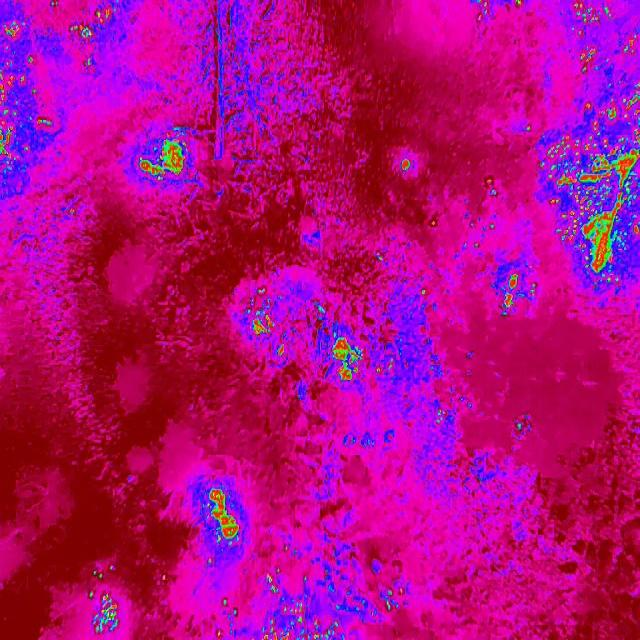fire: (549, 89, 640, 279), (205, 577, 398, 640), (461, 171, 504, 251), (569, 0, 610, 76), (140, 134, 188, 184), (206, 483, 241, 542), (82, 588, 119, 634), (68, 8, 114, 43), (332, 334, 360, 386), (0, 70, 16, 160), (252, 288, 276, 338), (503, 273, 521, 308), (4, 20, 20, 40), (398, 158, 413, 174), (427, 216, 440, 232)
